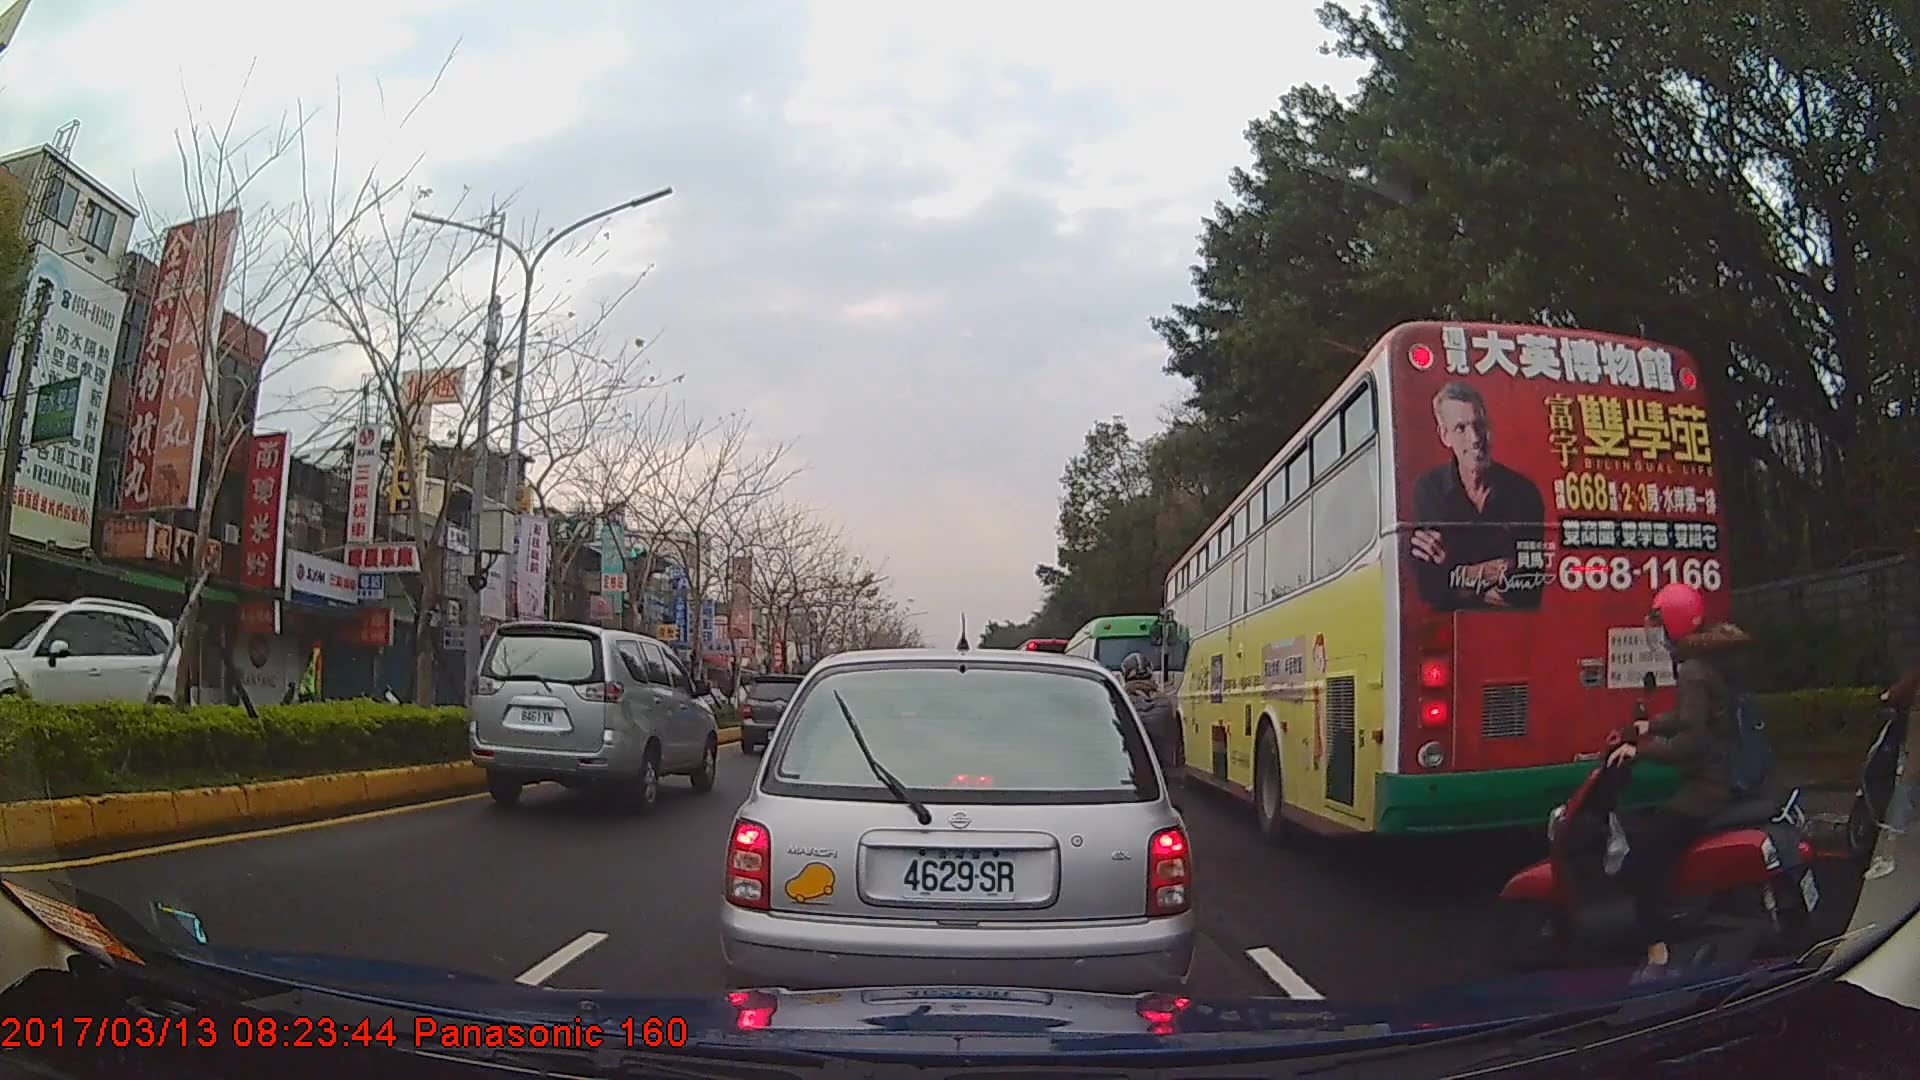rider: (1504, 583, 1821, 983), (1844, 571, 1920, 894), (1112, 653, 1177, 818)
vehicle: (1160, 317, 1731, 846), (722, 646, 1192, 1029), (466, 618, 718, 812), (0, 595, 196, 761), (1062, 613, 1186, 768), (740, 674, 818, 757)
